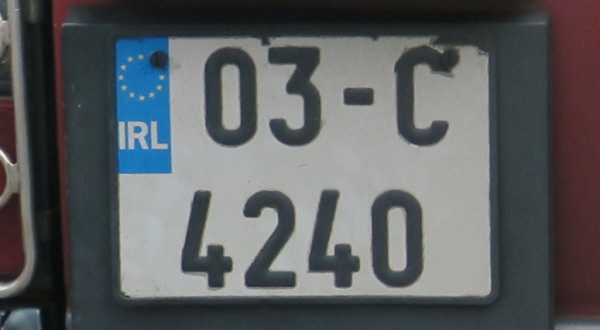license_plate: (108, 32, 498, 305)
